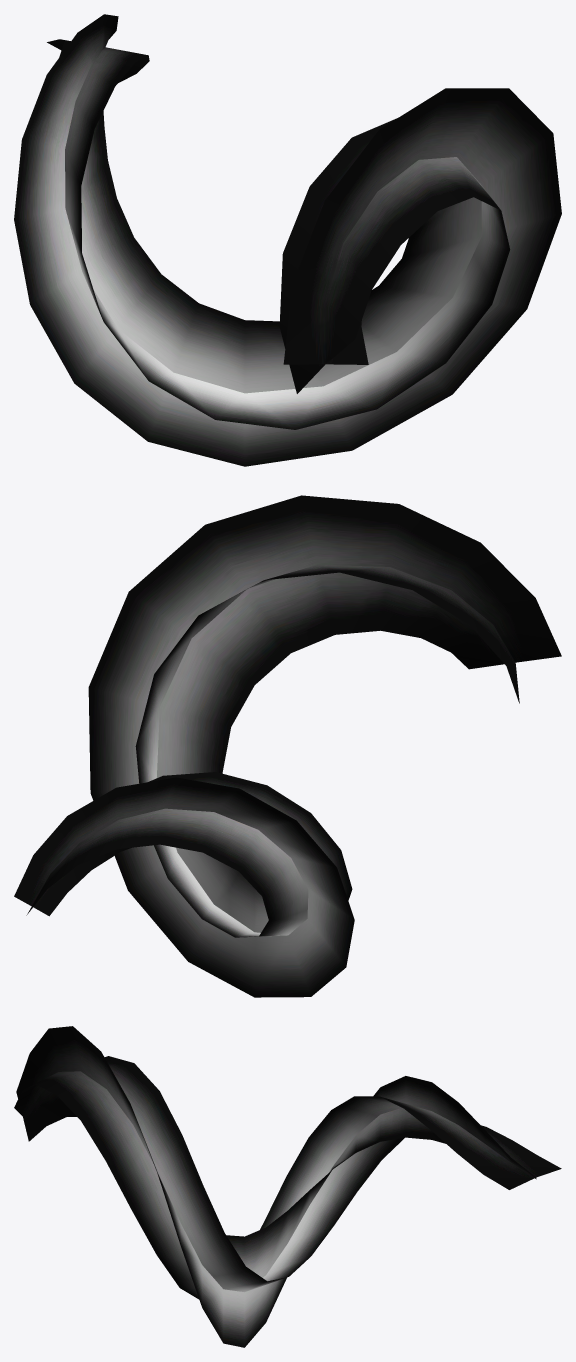
File: vfx_kurp_0099.dae
3 views of the same model, one above another, from view 1: azimuth 30°, elevation 25°; view 2: azimuth 150°, elevation 25°; view 3: azimuth 270°, elevation 25° (orthographic). The views are drawn at different scales.
Visible parts, largest first — view 1: vfx_kurp_0099; view 2: vfx_kurp_0099; view 3: vfx_kurp_0099.
Part boxes in pixels (box(x1,y1,x2,y2)): vfx_kurp_0099: box(14, 14, 561, 466); vfx_kurp_0099: box(14, 495, 561, 997); vfx_kurp_0099: box(14, 1026, 561, 1347).
Bounding box in the file's own units: 6.26 × 10.99 × 6.52.
Materials: 1 (1 with a texture image).
